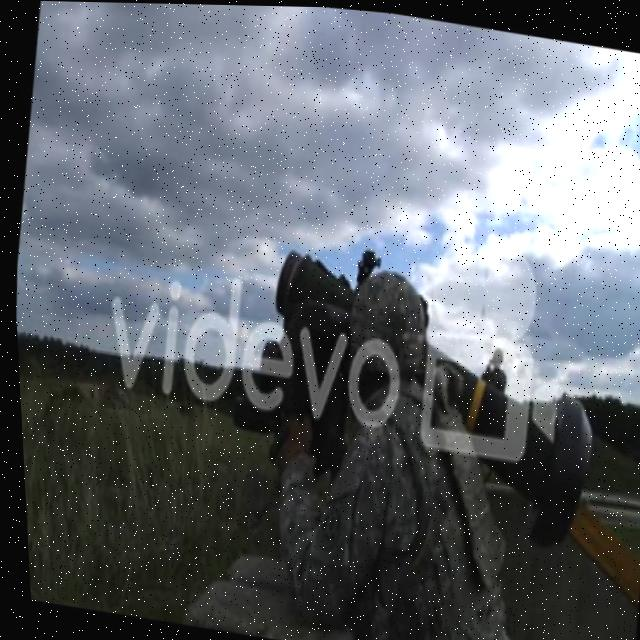rocket: (244, 250, 608, 547)
